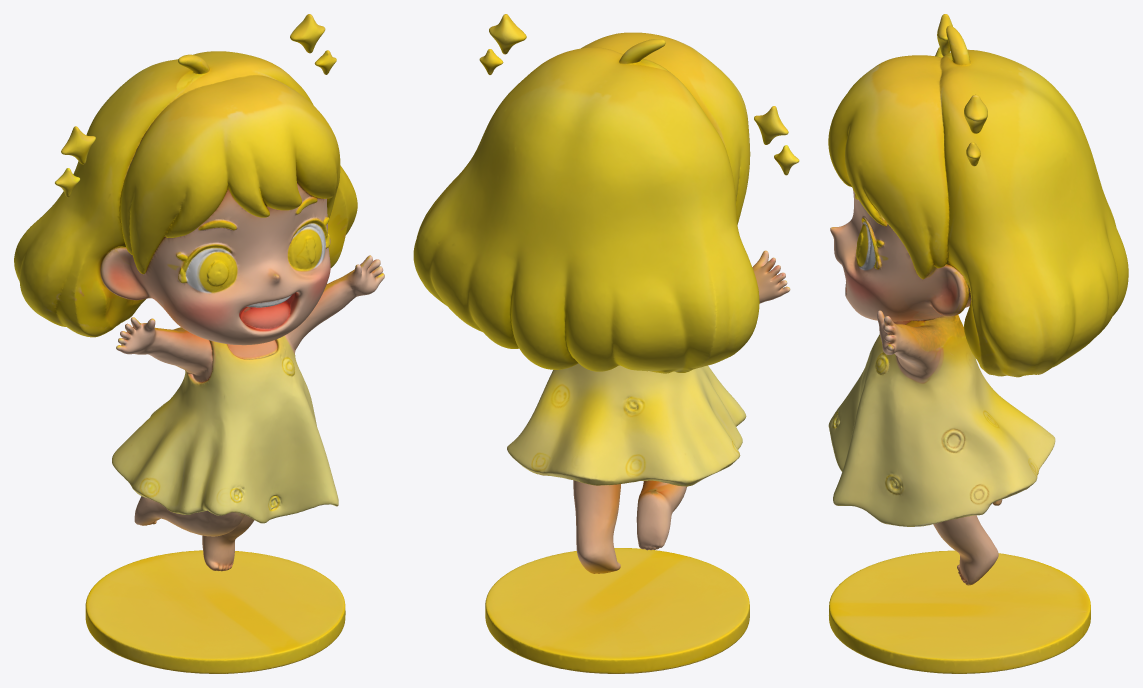
Rendered from Sunny.glb.
3 views of the same model, side by side, from view 1: azimuth 30°, elevation 25°; view 2: azimuth 150°, elevation 25°; view 3: azimuth 270°, elevation 25° (orthographic).
Bounding box in the file's own units: 1.16 × 1.9 × 0.9012.
Materials: 1 (1 with a texture image).
